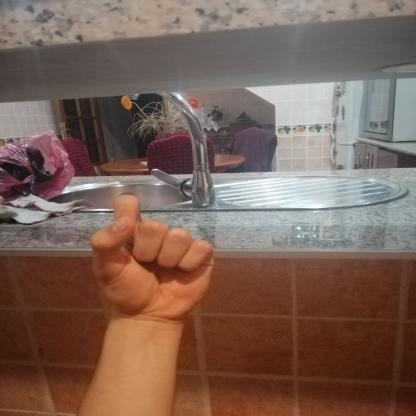FAA: (72, 183, 227, 332)
